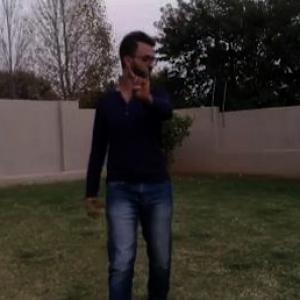takeoff-hand: (124, 64, 156, 106)
